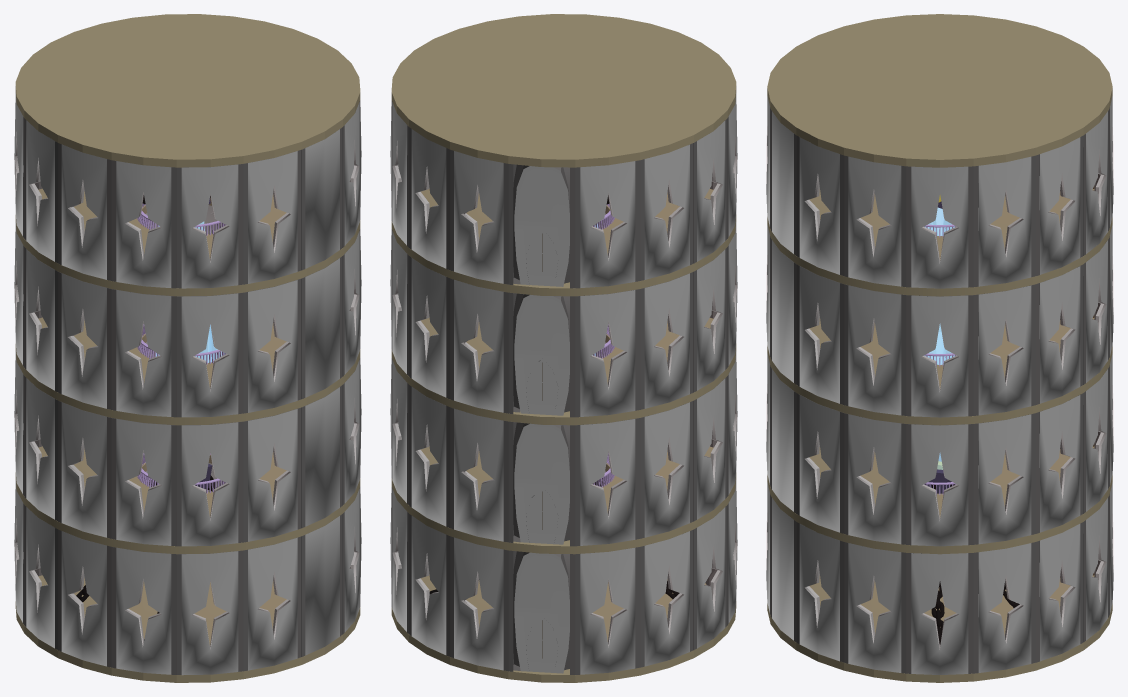
File: LevelPrefab.fbx
3 renders of one model, left to right at view 1: azimuth 30°, elevation 25°; view 2: azimuth 150°, elevation 25°; view 3: azimuth 270°, elevation 25°, orthographic.
Parts seen in each view (by area): view 1: floor, walls.002, walls.001, walls, walls.003, floor.001, floorwithhole, floorwithhole.001, floorwithhole.002; view 2: floor, walls.001, walls.002, walls.003, walls, floor.001, floorwithhole.002, floorwithhole, floorwithhole.001; view 3: floor, walls.002, walls.001, walls.003, walls, floorwithhole, floorwithhole.002, floorwithhole.001, floor.001, crystal.
Boxes of the visible parts, x1=… form: floor: x1=15, y1=14, x2=360, y2=167; walls.002: x1=14, y1=205, x2=361, y2=417; walls.001: x1=14, y1=340, x2=361, y2=546; walls: x1=14, y1=463, x2=361, y2=675; walls.003: x1=14, y1=94, x2=361, y2=288; floor.001: x1=15, y1=575, x2=360, y2=682; floorwithhole: x1=15, y1=188, x2=360, y2=296; floorwithhole.001: x1=15, y1=446, x2=360, y2=554; floorwithhole.002: x1=15, y1=317, x2=360, y2=425; floor: x1=391, y1=14, x2=736, y2=167; walls.001: x1=390, y1=342, x2=737, y2=546; walls.002: x1=390, y1=213, x2=737, y2=417; walls.003: x1=390, y1=93, x2=737, y2=288; walls: x1=390, y1=471, x2=737, y2=674; floor.001: x1=391, y1=574, x2=736, y2=682; floorwithhole.002: x1=391, y1=317, x2=736, y2=425; floorwithhole: x1=391, y1=188, x2=736, y2=296; floorwithhole.001: x1=391, y1=446, x2=736, y2=554; floor: x1=767, y1=14, x2=1112, y2=167; walls.002: x1=766, y1=220, x2=1113, y2=417; walls.001: x1=766, y1=350, x2=1113, y2=546; walls.003: x1=766, y1=96, x2=1113, y2=288; walls: x1=766, y1=482, x2=1113, y2=674; floorwithhole: x1=767, y1=189, x2=1112, y2=296; floorwithhole.002: x1=767, y1=317, x2=1112, y2=425; floorwithhole.001: x1=767, y1=446, x2=1112, y2=554; floor.001: x1=767, y1=575, x2=1112, y2=682; crystal: x1=924, y1=207, x2=954, y2=469.
Size of the model in its own units: 2011 by 3341 by 2011.
